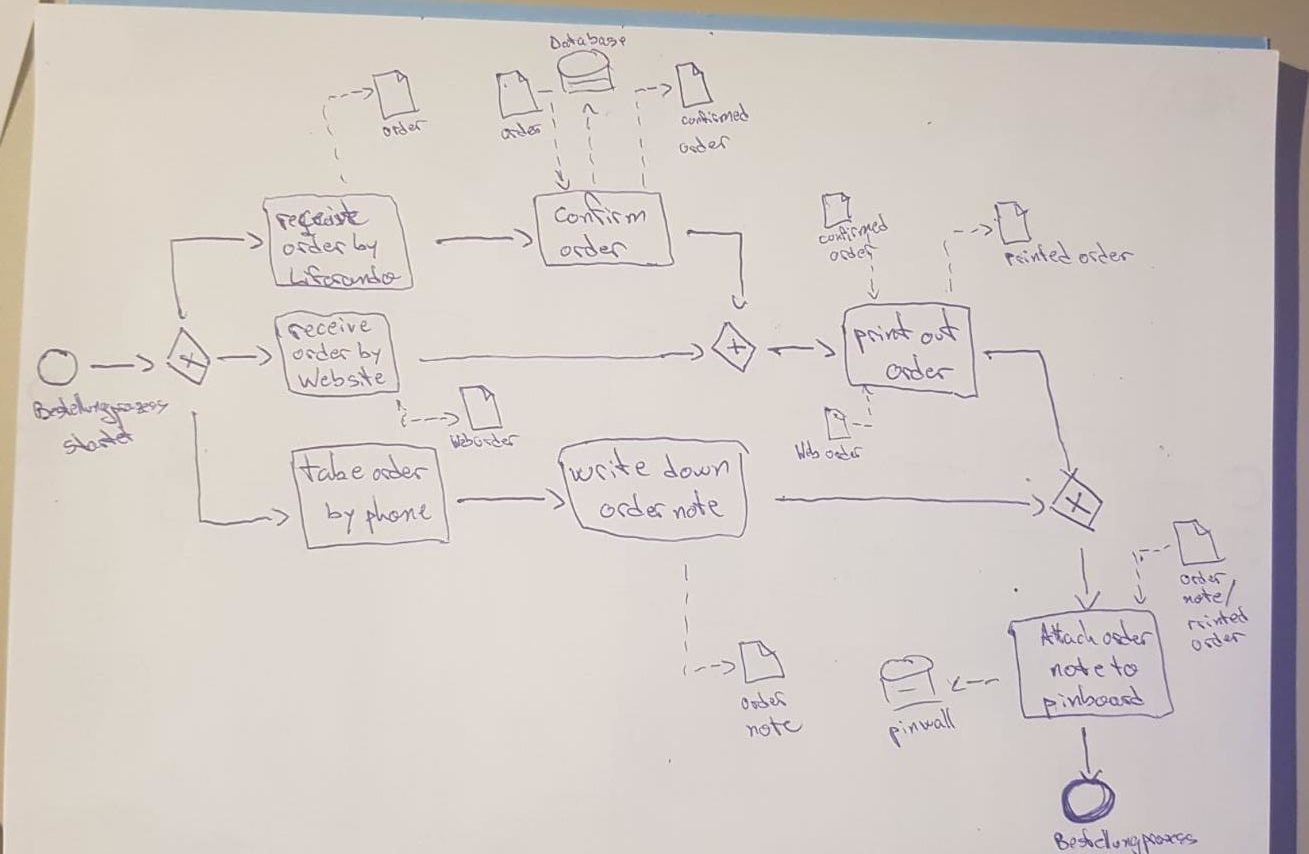Attach: (1033, 619, 1100, 650)
Bestellungsprozess: (29, 388, 172, 424), (1056, 823, 1197, 853)
Database: (545, 30, 630, 54)
Liferando: (285, 261, 401, 287)
Web: (792, 441, 825, 464)
Weborder: (446, 431, 522, 452)
Website: (292, 366, 393, 391)
by: (320, 498, 361, 535), (351, 234, 384, 262), (352, 338, 387, 363)
confirm: (553, 193, 652, 228)
confirmed: (819, 212, 893, 246), (678, 105, 750, 130)
down: (660, 452, 733, 483)
note: (668, 491, 727, 528), (745, 713, 802, 740), (1050, 657, 1107, 682)
note/: (1176, 586, 1237, 609)
order: (880, 351, 958, 385), (599, 494, 669, 524), (556, 234, 628, 263), (369, 454, 431, 485), (1074, 241, 1138, 269), (1185, 634, 1252, 660), (1097, 621, 1159, 649), (282, 235, 352, 259), (736, 686, 790, 715), (292, 343, 356, 365), (678, 133, 732, 157), (1177, 565, 1230, 589), (498, 120, 548, 141), (376, 120, 426, 141), (822, 443, 864, 464), (828, 245, 874, 264)
out: (918, 307, 962, 347)
phone: (363, 495, 437, 530)
pinboard: (1041, 685, 1146, 717)
pinwall: (882, 722, 957, 756)
print: (850, 309, 917, 352)
printed: (1003, 243, 1076, 271), (1182, 611, 1249, 637)
receive: (274, 202, 369, 231), (285, 316, 375, 343)
startet: (57, 424, 137, 462)
take: (299, 453, 368, 487)
to: (1110, 656, 1140, 681)
write: (565, 456, 652, 490)
